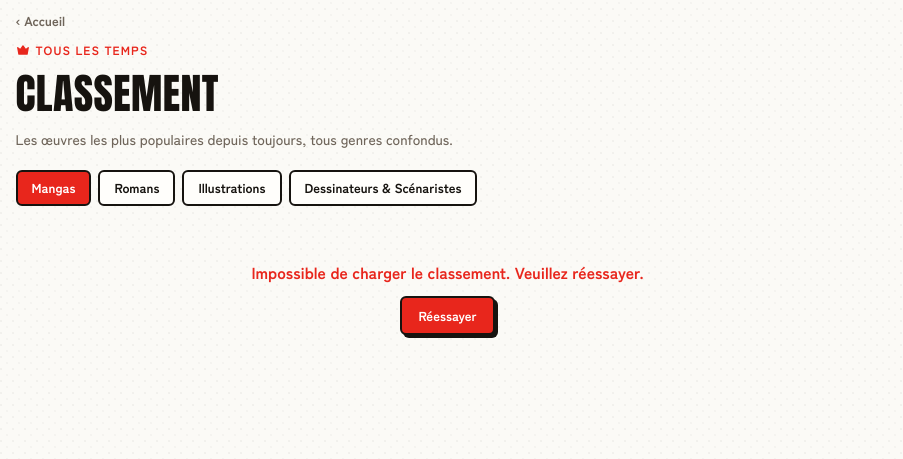
it: ClassementClient (DR-7 category tabs) › shows an error state with a working "Réessayer" retry on a terminal failure
Expected: the message "Impossible de charger le classement. Veuillez réessayer. Réessayer" is shown, x1=251 y1=260 x2=644 y2=335
Click the button "Réessayer" at (447, 315), box x1=400 y1=296 x2=494 y2=335
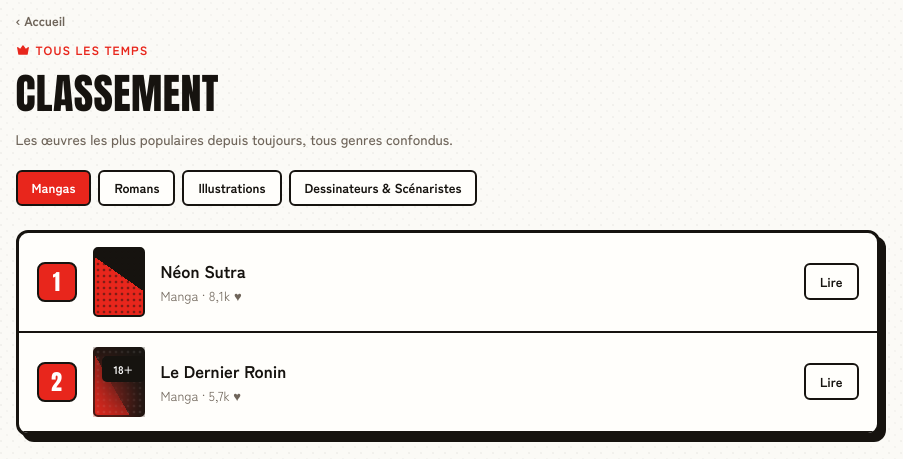
Result: the text "Néon Sutra" is shown at x1=160 y1=258 x2=246 y2=283
